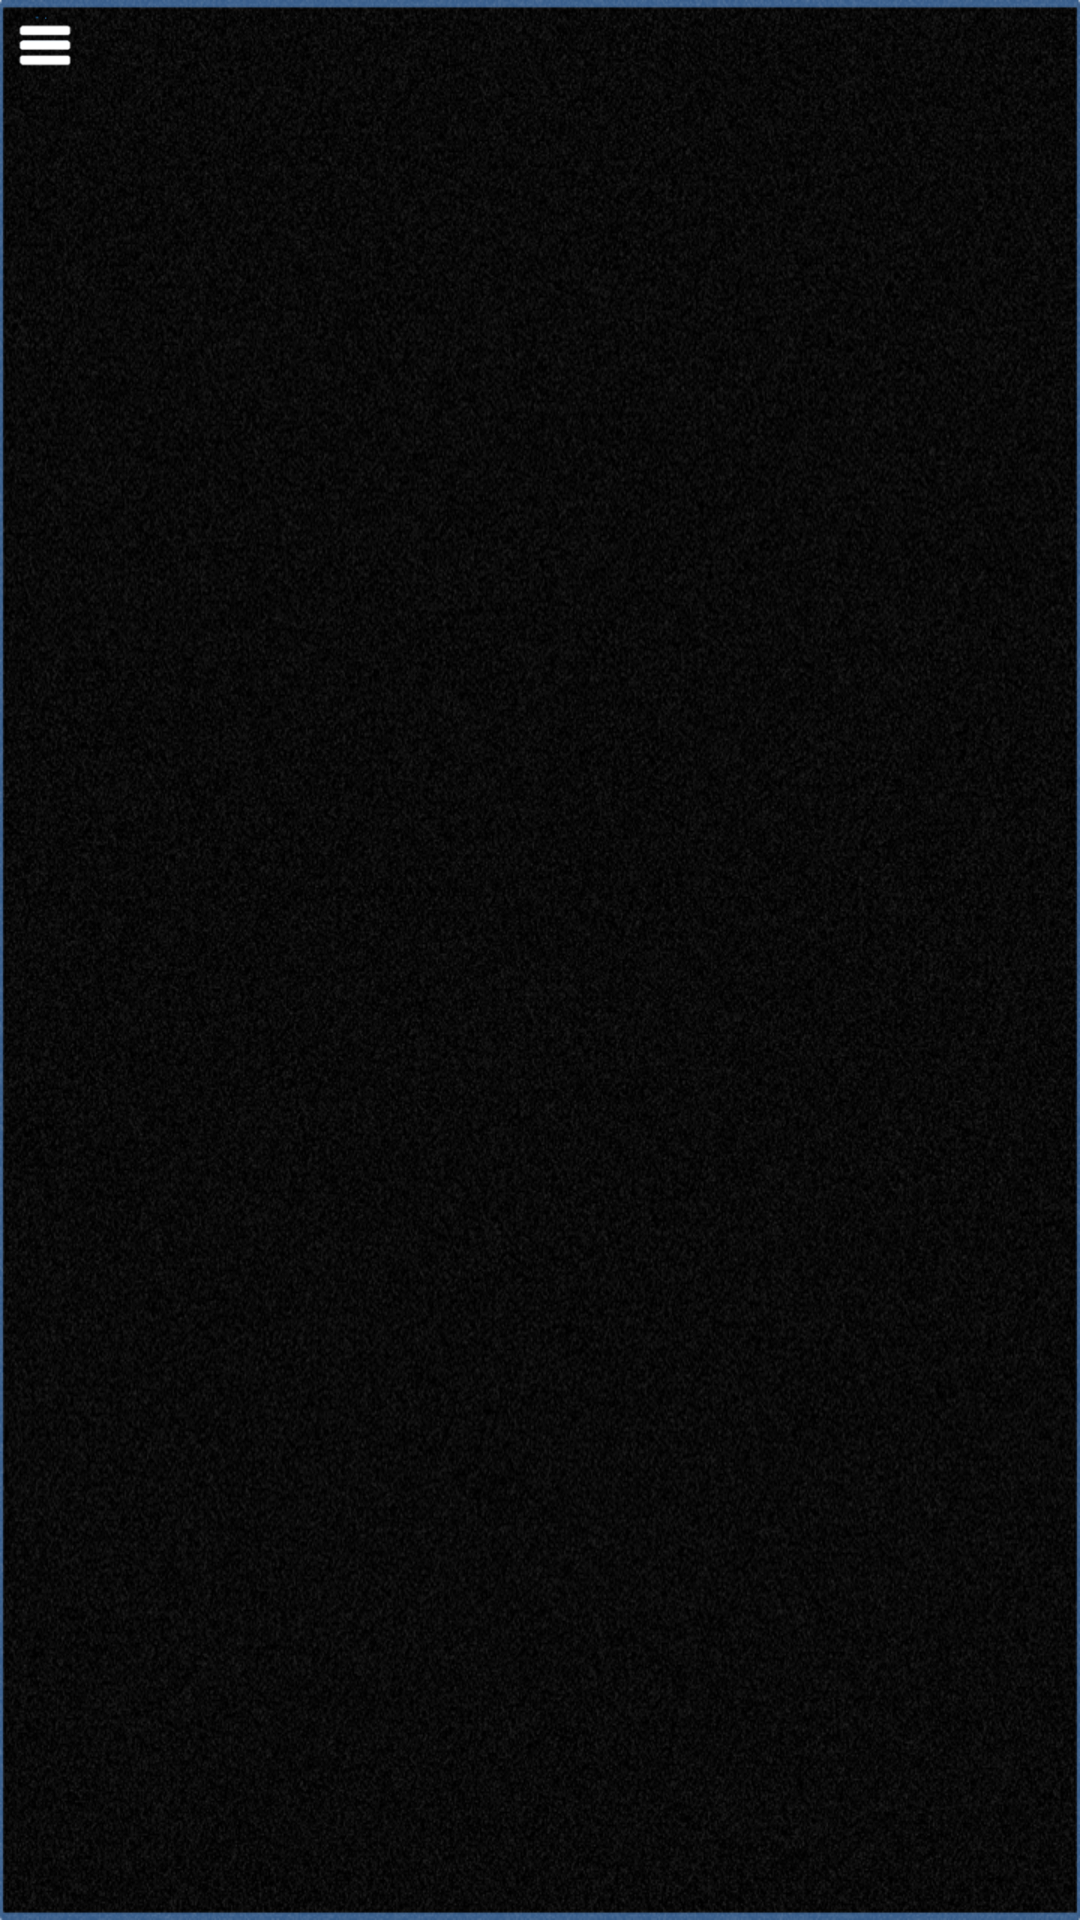

Point at icon controls on the screen. Image size 1080px x 1920px, points as [x,y].
drawericon: [45,41]
